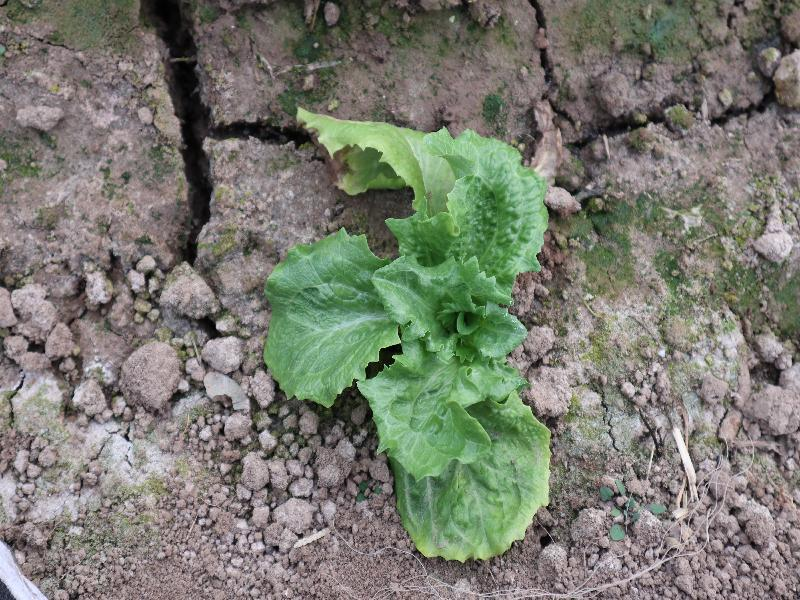lettuce: (261, 105, 554, 562)
